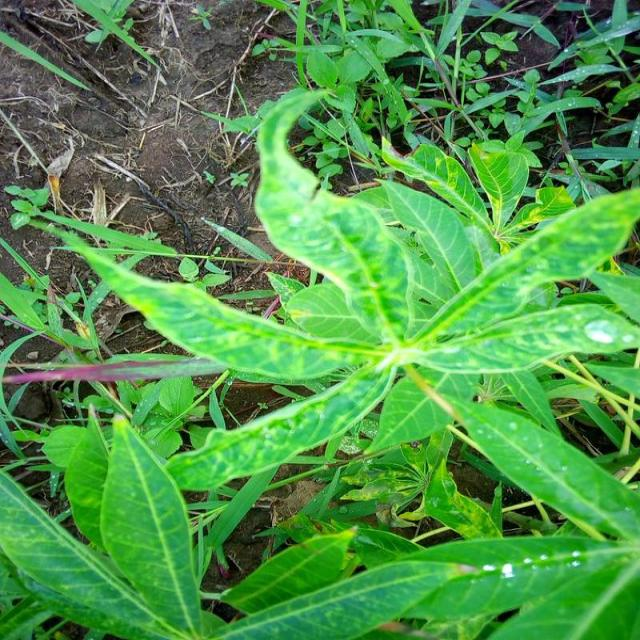cassava leaf: (1, 82, 638, 636), (98, 413, 202, 637)
